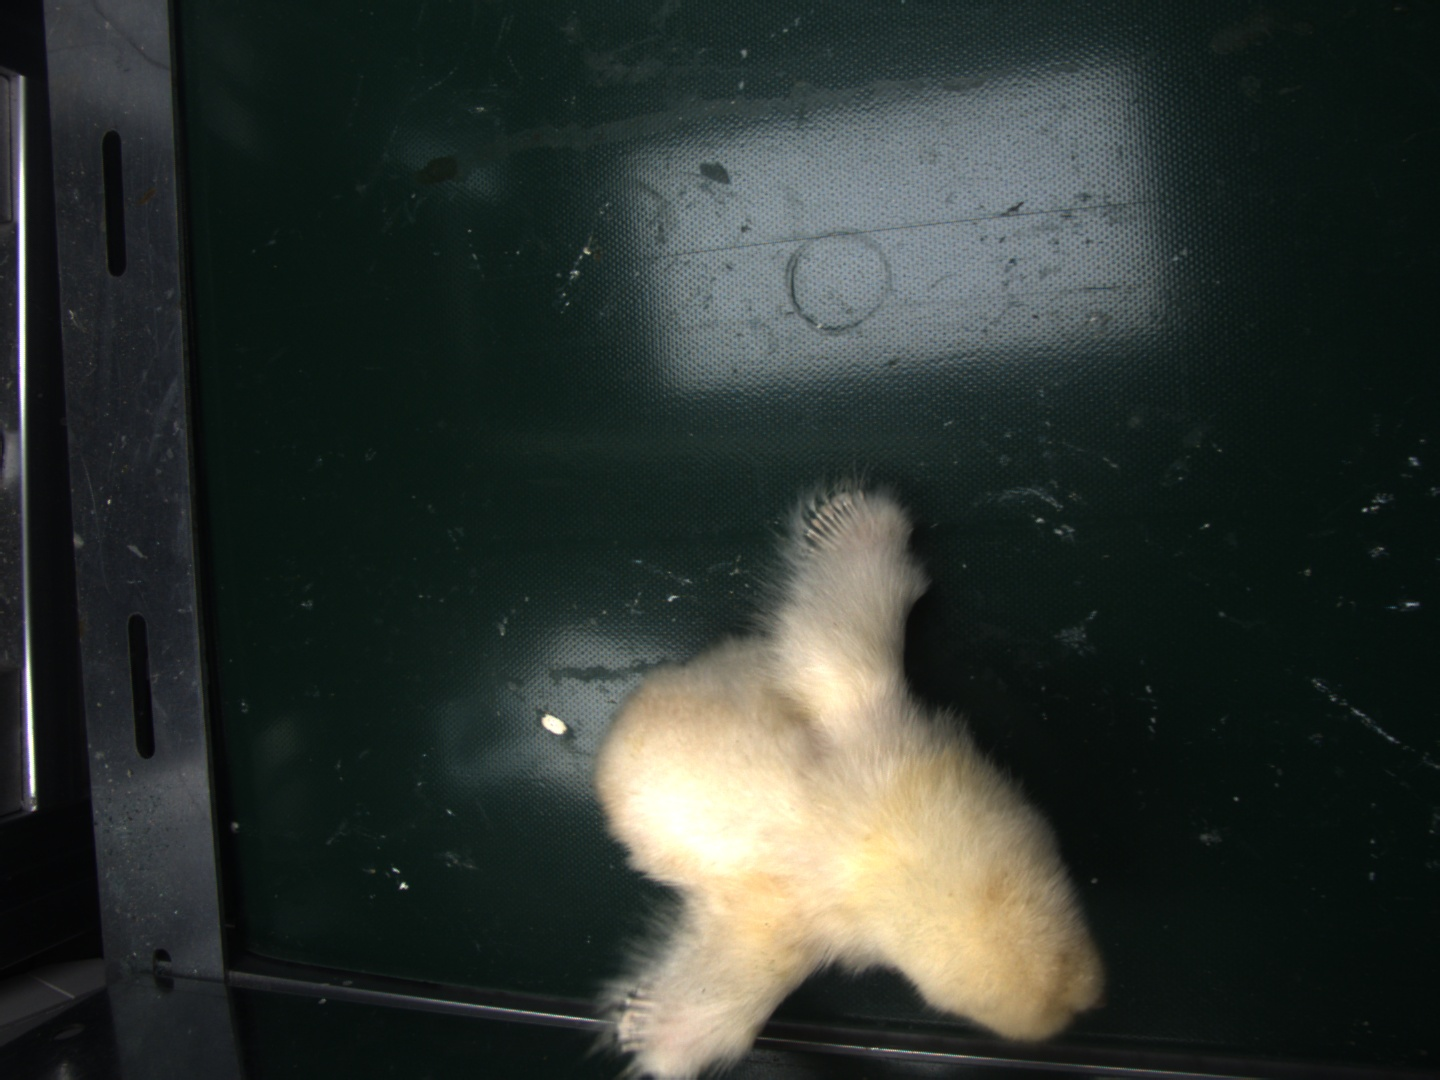male: (806, 496, 865, 554)
